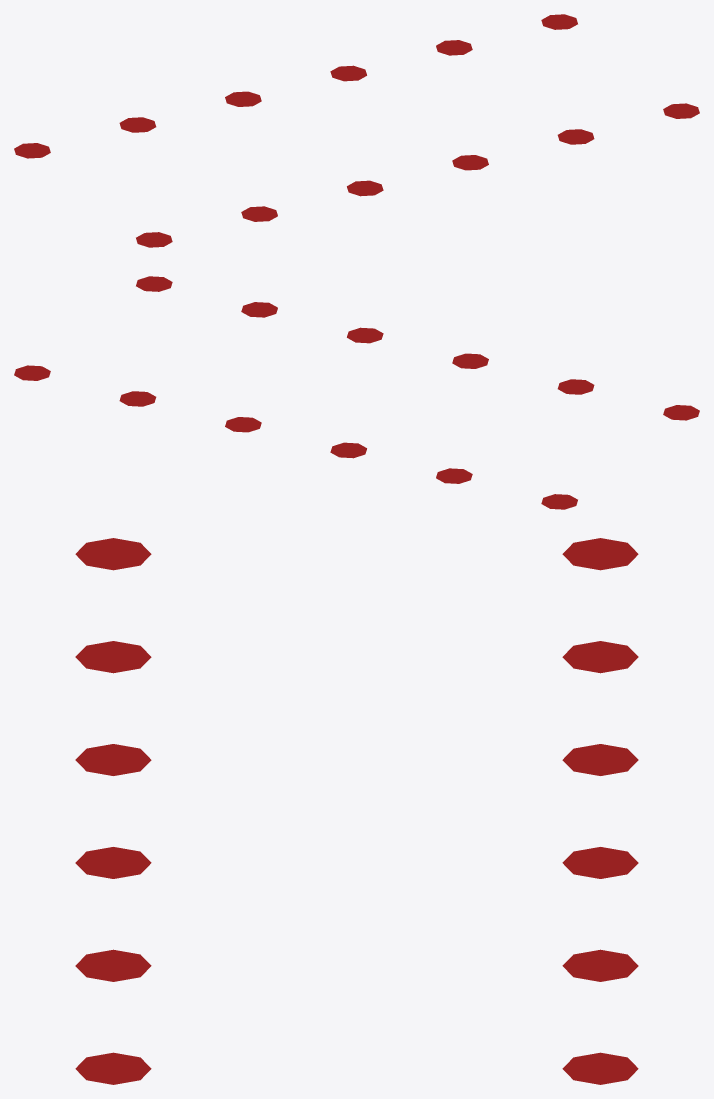
The model's file is cylinder_material.010_0_lev1.glb.
3 renders of one model, top to bottom at view 1: azimuth 30°, elevation 25°; view 2: azimuth 150°, elevation 25°; view 3: azimuth 270°, elevation 25°, orthographic. The views are drawn at different scales.
Visible parts, largest first — view 1: cylinder_material.010_0_lev1; view 2: cylinder_material.010_0_lev1; view 3: cylinder_material.010_0_lev1.
Part boxes in pixels (x1,y1,x2,y2): cylinder_material.010_0_lev1: (14,14,699,247); cylinder_material.010_0_lev1: (14,276,699,509); cylinder_material.010_0_lev1: (75,538,638,1084).
Bounding box in the file's own units: 26.44 × 3.88e-06 × 11.51.
